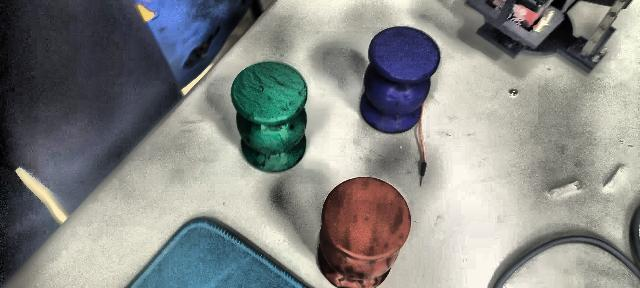blue: (360, 26, 440, 132)
green: (229, 60, 311, 172)
red: (316, 178, 412, 288)
